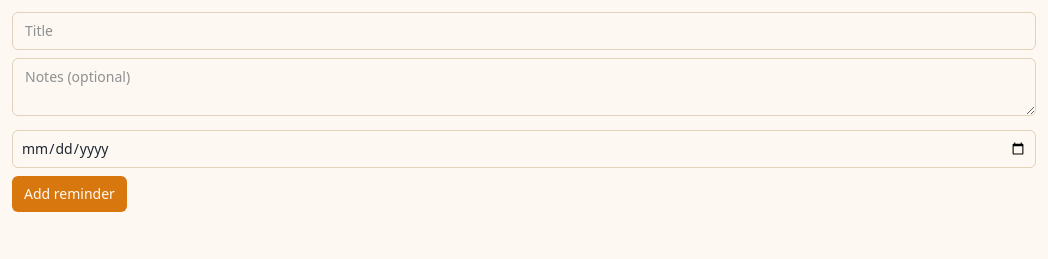
Test: ReminderForm › shows an error message on failure
The width and height of the screenshot is (1048, 259).
Type "x" into the field with placeholder "Title".
click(524, 31); type("x")  # box 12,12 -> 1036,50
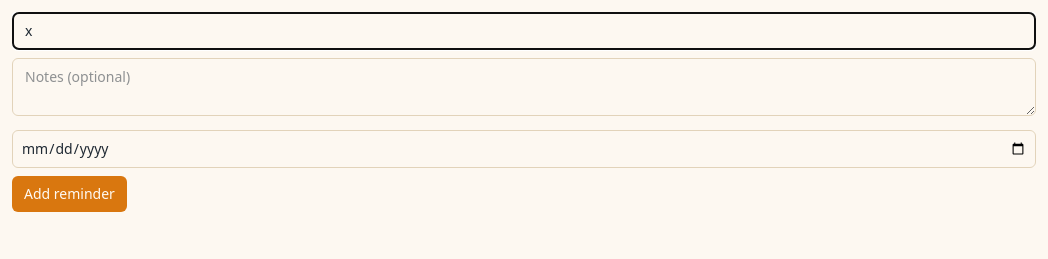
Click the button "Add reminder".
click(69, 194)  # box 12,176 -> 127,212
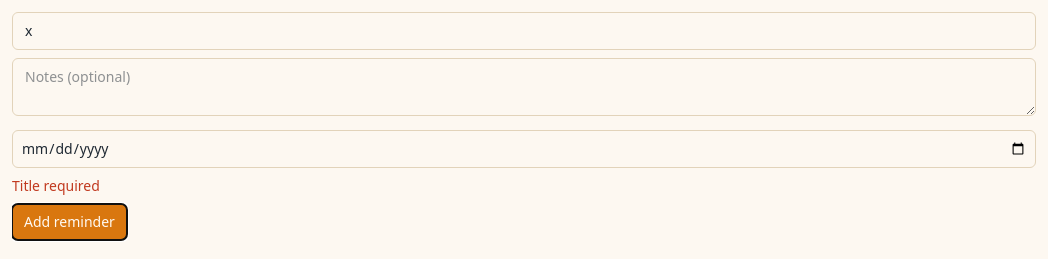
expect the message reads "Title required": met, box 12,176 -> 100,195
